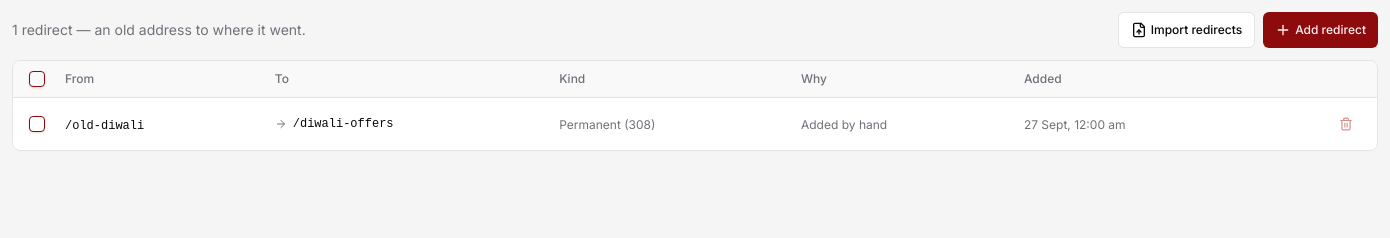
Test: deleting a selection › is shut without content.addresses and content.delete
The image size is (1390, 238).
Click the checkbox named "Select all rows" at (37,79), box [29, 71, 45, 87]
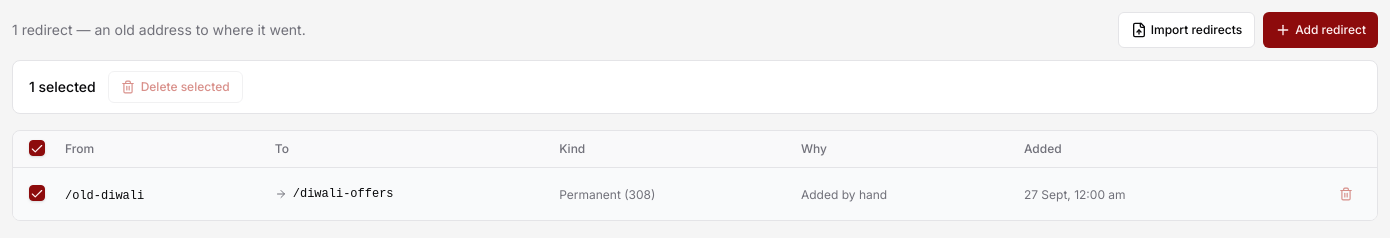
Expected: the button with test id "bulk-delete" is disabled, [108, 71, 243, 103]
